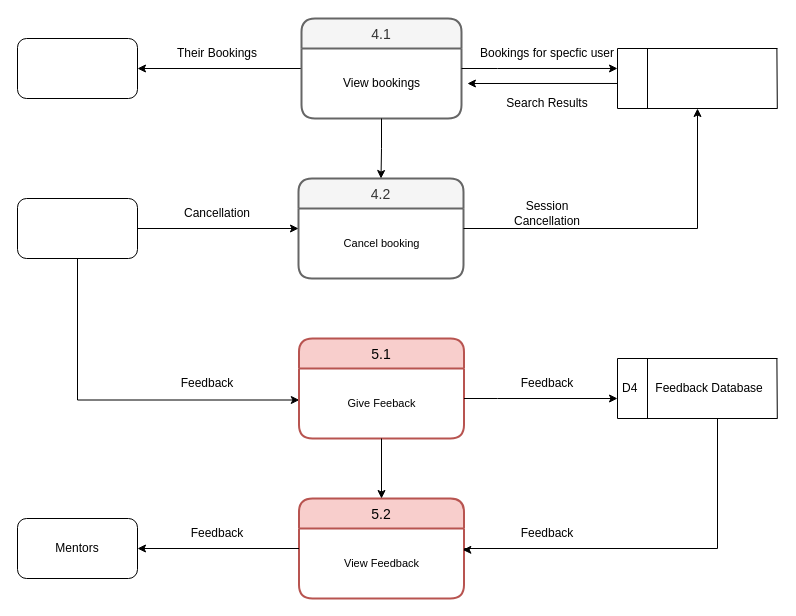
Image size: 796x616. Some labels were removed from this diagram. Here are the shapes that lost their labels. From the top down, the centre of each, then its label:
the point at 77,68: Mentor / Mentees
the point at 697,78: D3 Sessions Database
the point at 77,228: Mentees
